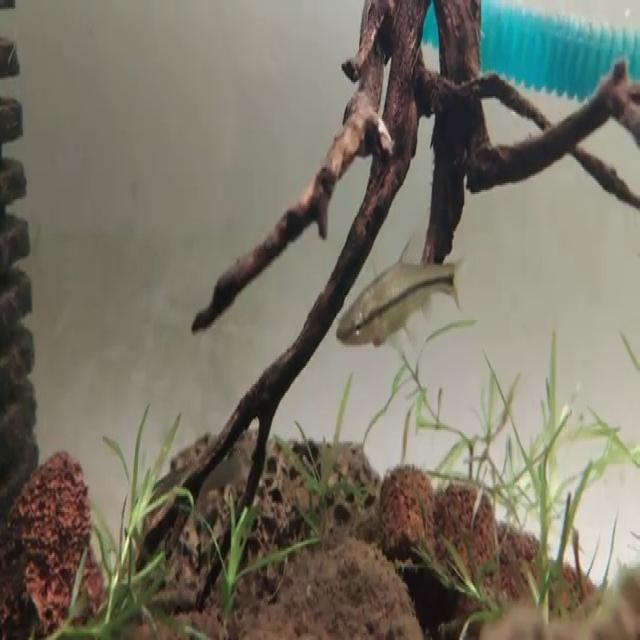Cakil Baligi: (334, 237, 463, 351)
